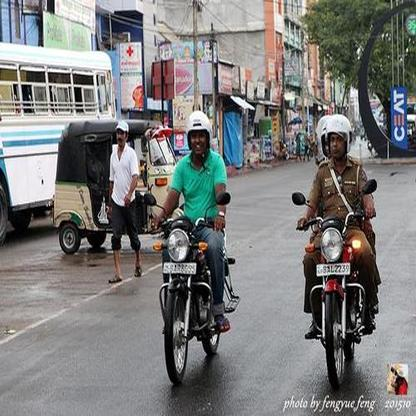target: (144, 110, 242, 388), (290, 113, 383, 387)
